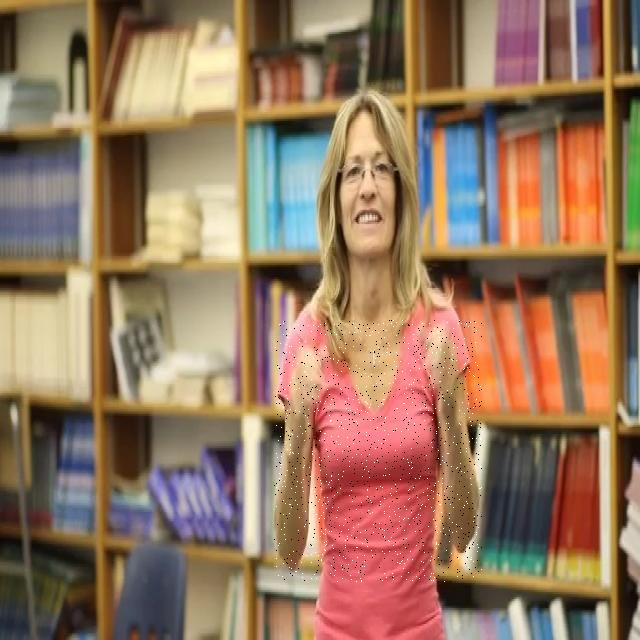cold: (274, 320, 482, 582)
